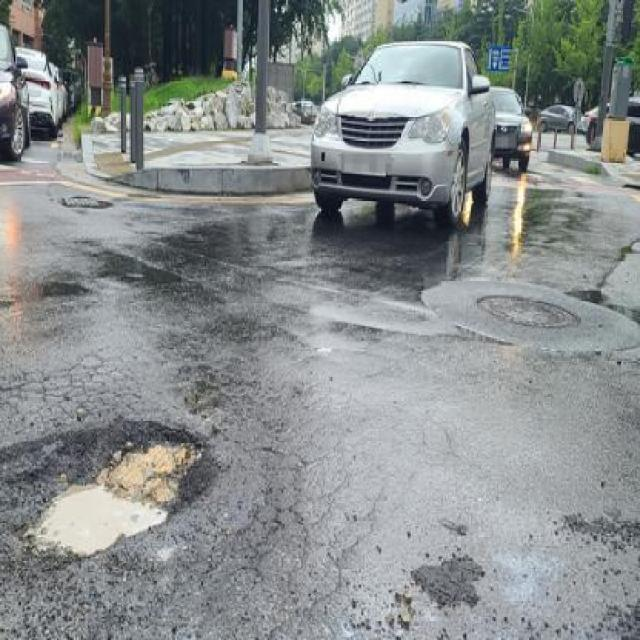Pothole: (28, 419, 211, 572), (476, 292, 584, 332)
